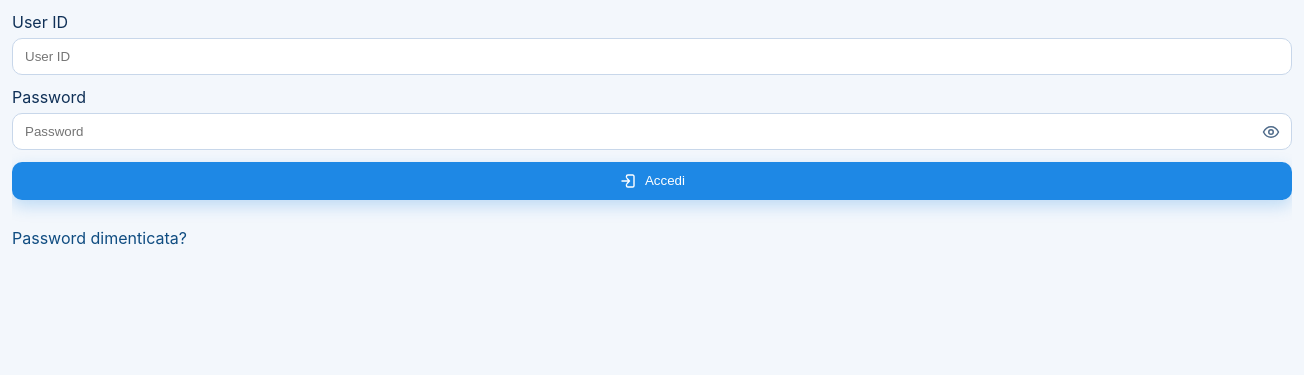
Test: LoginForm Component › displays error message on login failure
The image size is (1304, 375).
In the field with placeholder "User ID": [652, 56] box top-left (12, 38), bottom-right (1292, 75), type "admin"
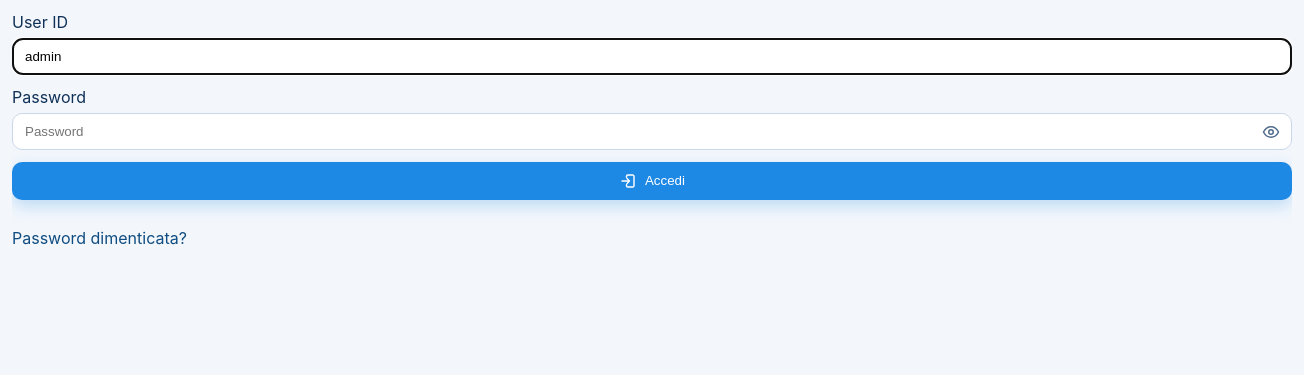
In the password field with placeholder "Password": [652, 132] box top-left (12, 113), bottom-right (1292, 150), type "wrongpassword"
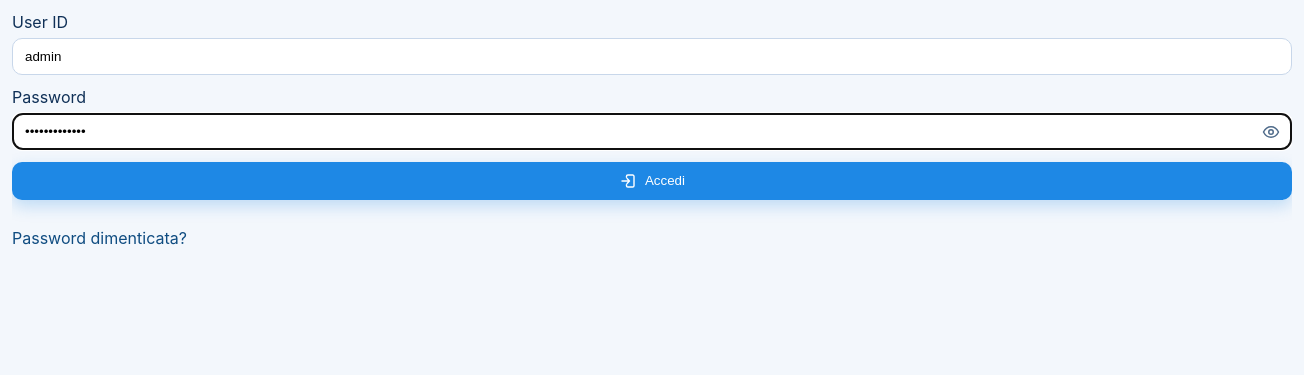
Click the button "Accedi": [652, 181] box top-left (12, 162), bottom-right (1292, 200)
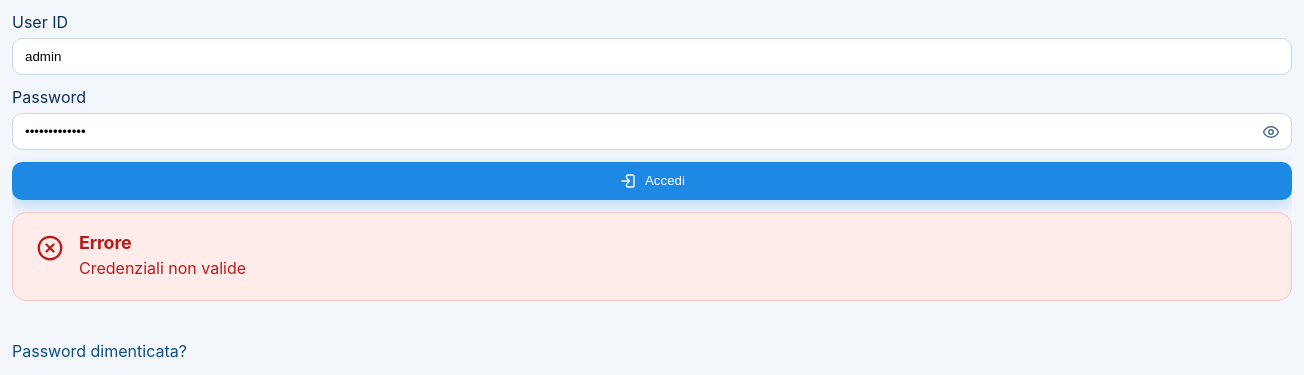
Expected: the text "Credenziali non valide" is shown, top-left (79, 258), bottom-right (246, 278)
